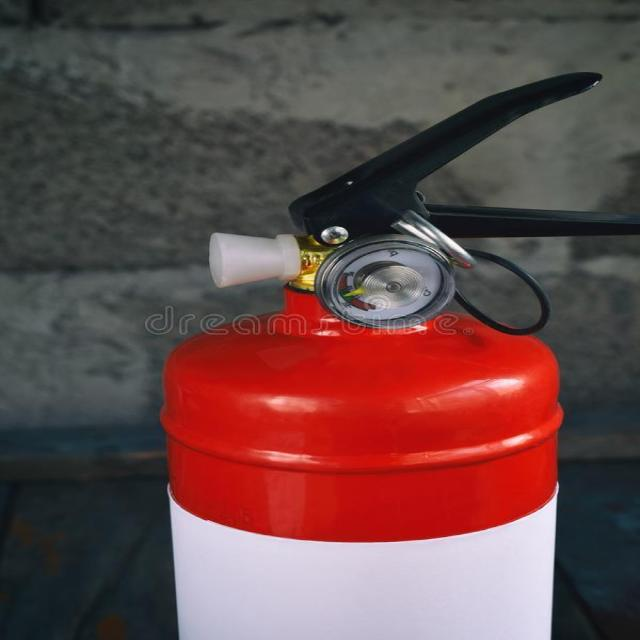fire_extinguisher: (142, 66, 639, 640)
